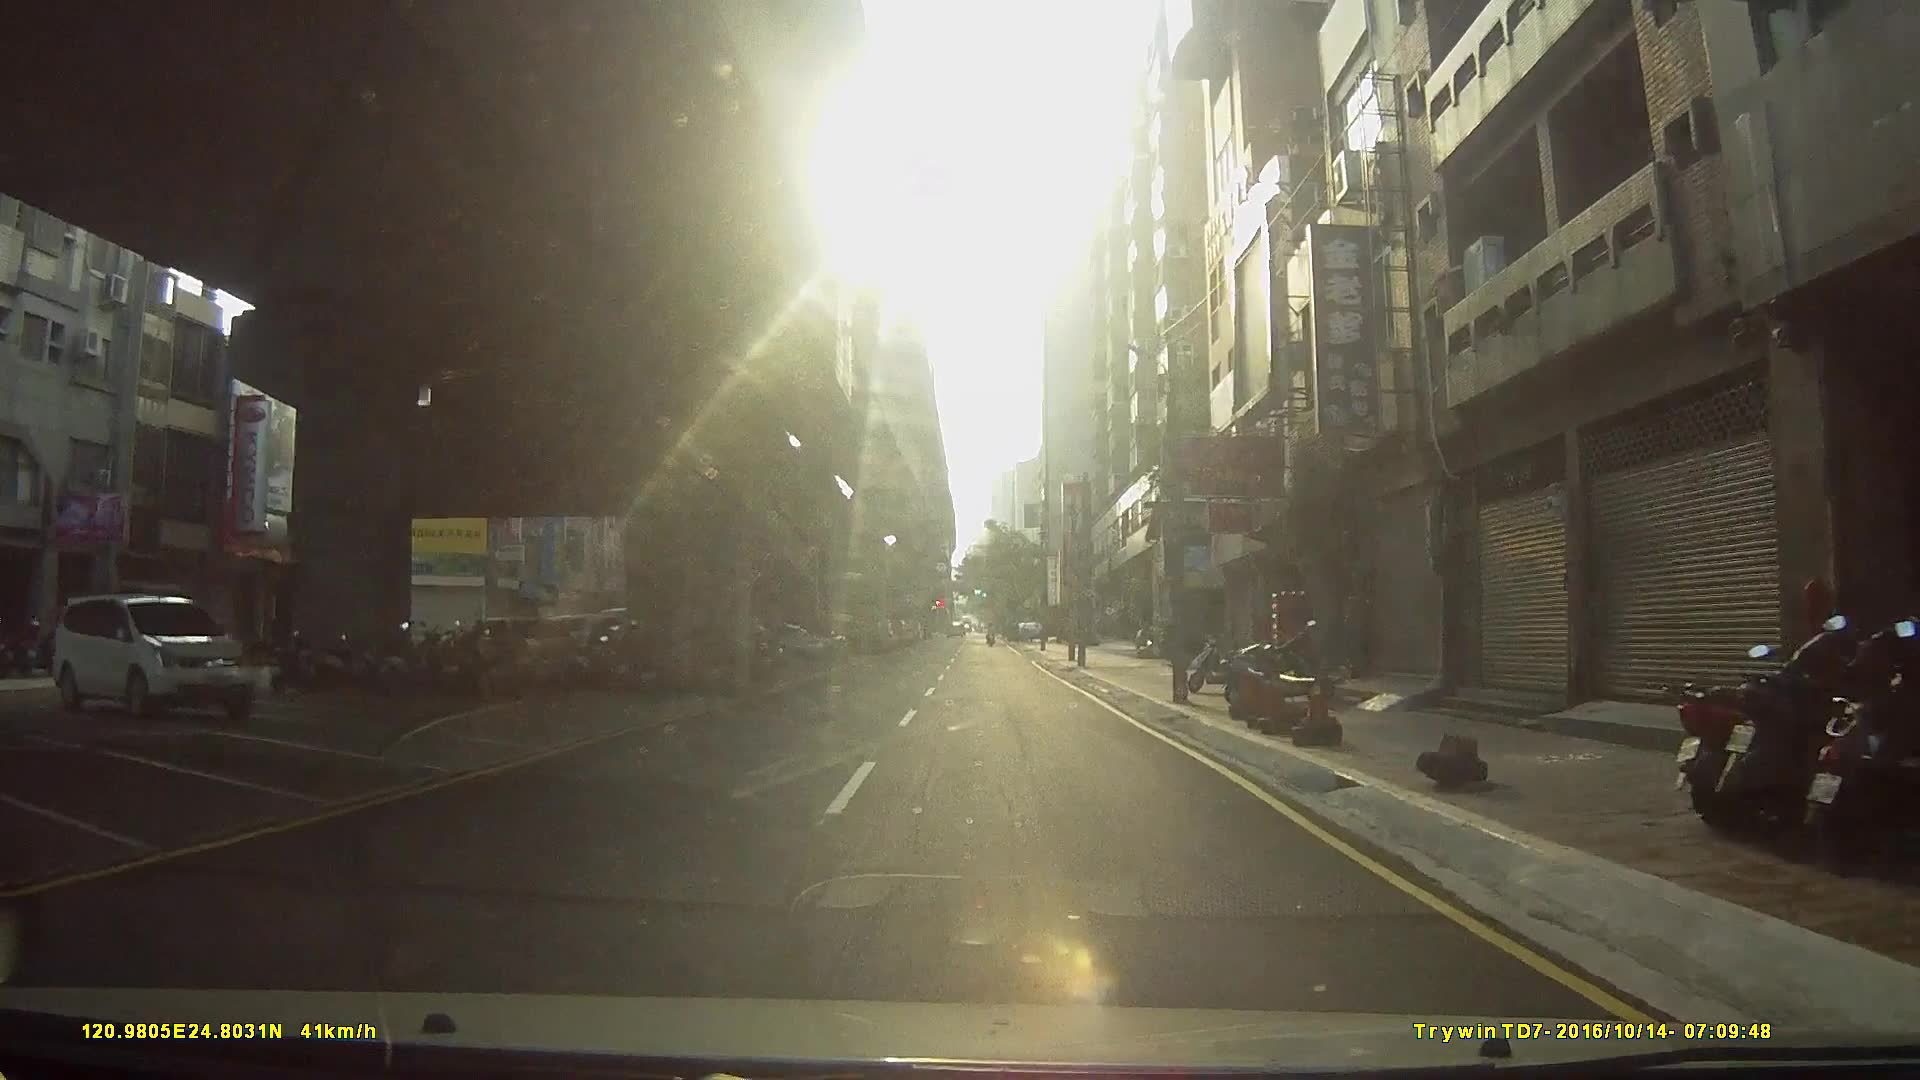vehicle: (47, 593, 257, 723)
